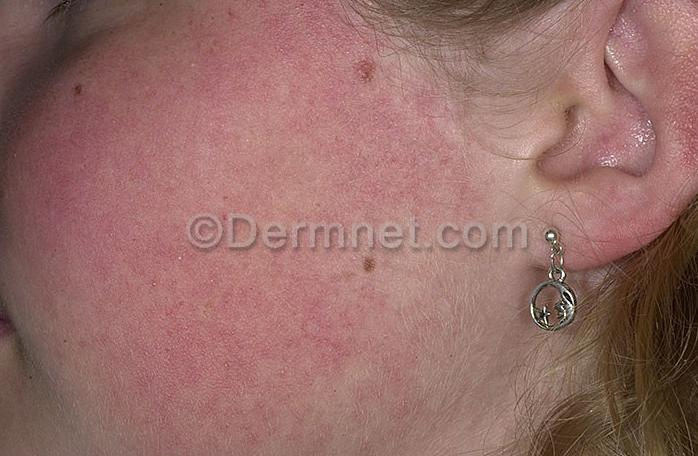eritema 3: (0, 0, 449, 456)
